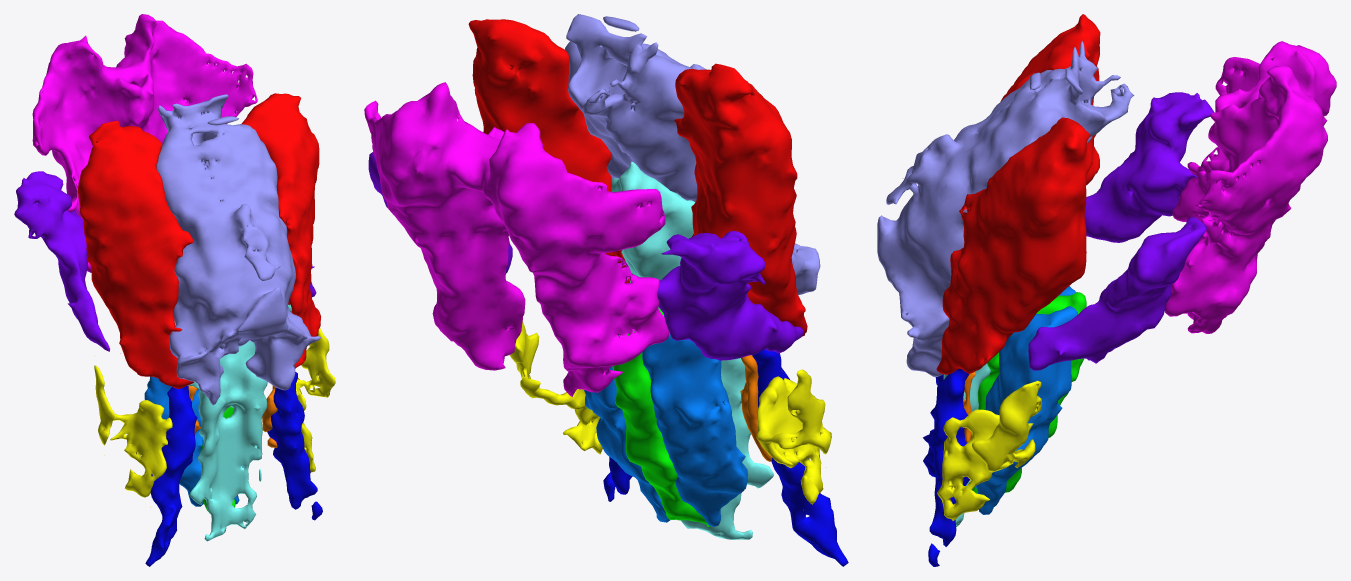
The model's file is arousal-nuclei.glb.
The picture shows the model from 3 angles, left to right: view 1: azimuth 30°, elevation 25°; view 2: azimuth 150°, elevation 25°; view 3: azimuth 270°, elevation 25°; orthographic projection. The views are drawn at different scales.
Visible parts, largest first — view 1: aan:midline:periaqueductal-grey, aan:left:mesencephalic-reticular-formation, aan:midline:ventral-tegmental-area, aan:midline:dorsal-raphe, aan:right:mesencephalic-reticular-formation, aan:left:pedunculotegmental-nucleus, aan:left:parabrachial-complex, aan:left:locus-coeruleus, aan:right:locus-coeruleus, aan:right:parabrachial-complex, aan:left:pontis-oralis, aan:right:laterodorsal-tegmental-nucleus; view 2: aan:midline:ventral-tegmental-area, aan:left:mesencephalic-reticular-formation, aan:midline:periaqueductal-grey, aan:right:mesencephalic-reticular-formation, aan:left:pontis-oralis, aan:left:pedunculotegmental-nucleus, aan:midline:dorsal-raphe, aan:left:parabrachial-complex, aan:midline:median-raphe, aan:left:locus-coeruleus, aan:right:pontis-oralis, aan:right:parabrachial-complex (+2 smaller); view 3: aan:midline:ventral-tegmental-area, aan:right:mesencephalic-reticular-formation, aan:midline:periaqueductal-grey, aan:right:pedunculotegmental-nucleus, aan:left:pedunculotegmental-nucleus, aan:right:parabrachial-complex, aan:right:pontis-oralis, aan:right:locus-coeruleus, aan:left:mesencephalic-reticular-formation, aan:midline:median-raphe, aan:midline:dorsal-raphe.
Boxes of the visible parts, <box> form: aan:midline:periaqueductal-grey: <box>156,94,320,405</box>; aan:left:mesencephalic-reticular-formation: <box>78,121,193,388</box>; aan:midline:ventral-tegmental-area: <box>32,14,257,272</box>; aan:midline:dorsal-raphe: <box>174,304,291,541</box>; aan:right:mesencephalic-reticular-formation: <box>241,93,320,368</box>; aan:left:pedunculotegmental-nucleus: <box>14,171,120,353</box>; aan:left:parabrachial-complex: <box>94,365,172,507</box>; aan:left:locus-coeruleus: <box>145,385,197,566</box>; aan:right:locus-coeruleus: <box>267,372,322,520</box>; aan:right:parabrachial-complex: <box>296,328,335,472</box>; aan:left:pontis-oralis: <box>144,376,203,506</box>; aan:right:laterodorsal-tegmental-nucleus: <box>262,385,277,447</box>; aan:midline:ventral-tegmental-area: <box>364,82,669,396</box>; aan:left:mesencephalic-reticular-formation: <box>674,63,807,336</box>; aan:midline:periaqueductal-grey: <box>565,14,820,294</box>; aan:right:mesencephalic-reticular-formation: <box>468,19,630,282</box>; aan:left:pontis-oralis: <box>642,332,747,526</box>; aan:left:pedunculotegmental-nucleus: <box>657,230,804,360</box>; aan:midline:dorsal-raphe: <box>611,161,773,539</box>; aan:left:parabrachial-complex: <box>756,369,831,510</box>; aan:midline:median-raphe: <box>612,308,710,526</box>; aan:left:locus-coeruleus: <box>752,349,848,566</box>; aan:right:pontis-oralis: <box>584,366,670,522</box>; aan:right:parabrachial-complex: <box>510,321,602,454</box>; aan:midline:ventral-tegmental-area: <box>1165,41,1336,333</box>; aan:right:mesencephalic-reticular-formation: <box>936,117,1092,374</box>; aan:midline:periaqueductal-grey: <box>877,41,1134,376</box>; aan:right:pedunculotegmental-nucleus: <box>1028,217,1206,370</box>; aan:left:pedunculotegmental-nucleus: <box>1084,92,1214,242</box>; aan:right:parabrachial-complex: <box>937,380,1041,520</box>; aan:right:pontis-oralis: <box>975,306,1077,514</box>; aan:right:locus-coeruleus: <box>928,368,969,566</box>; aan:left:mesencephalic-reticular-formation: <box>1000,14,1100,185</box>; aan:midline:median-raphe: <box>972,292,1086,493</box>; aan:midline:dorsal-raphe: <box>943,363,990,527</box>.
Size of the model in its own units: 0.0205 by 0.0285 by 0.024.
